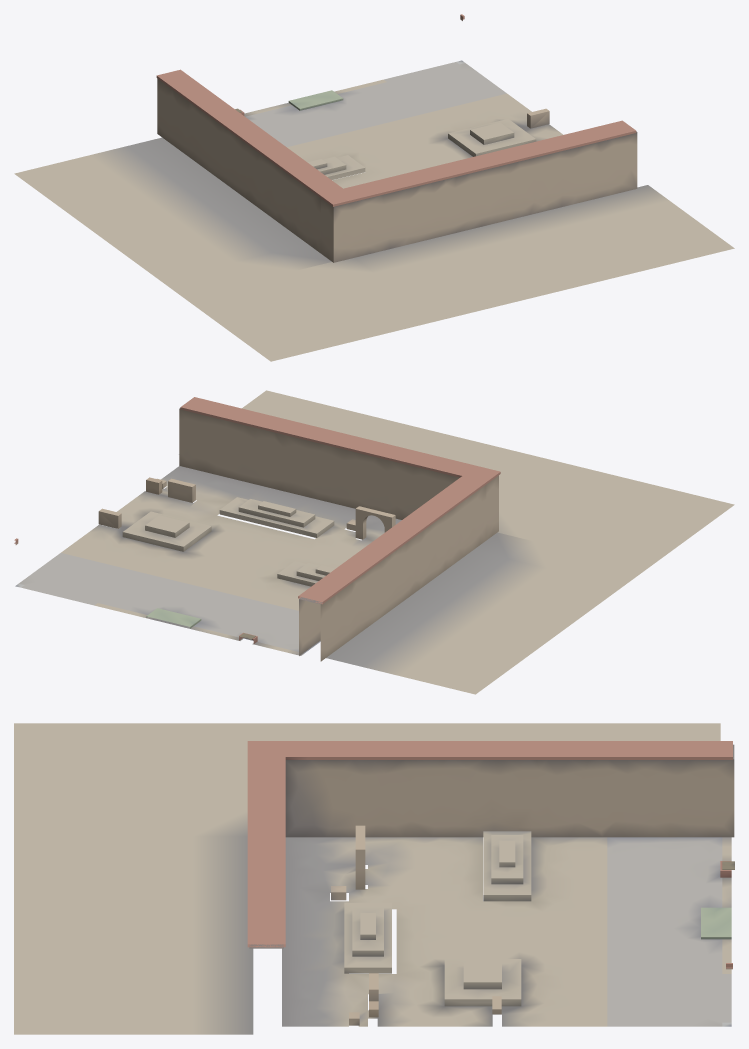
The picture shows the model from 3 angles, top to bottom: view 1: azimuth 30°, elevation 25°; view 2: azimuth 150°, elevation 25°; view 3: azimuth 270°, elevation 25°; orthographic projection. The views are drawn at different scales.
Visible parts, largest first — view 1: t; view 2: t; view 3: t.
Boxes of the visible parts, x1,y1,x2,y2 form: t: (14,14,734,361); t: (14,390,734,694); t: (14,723,734,1034).
Bounding box in the file's own units: 77 × 9.35 × 75.33.
